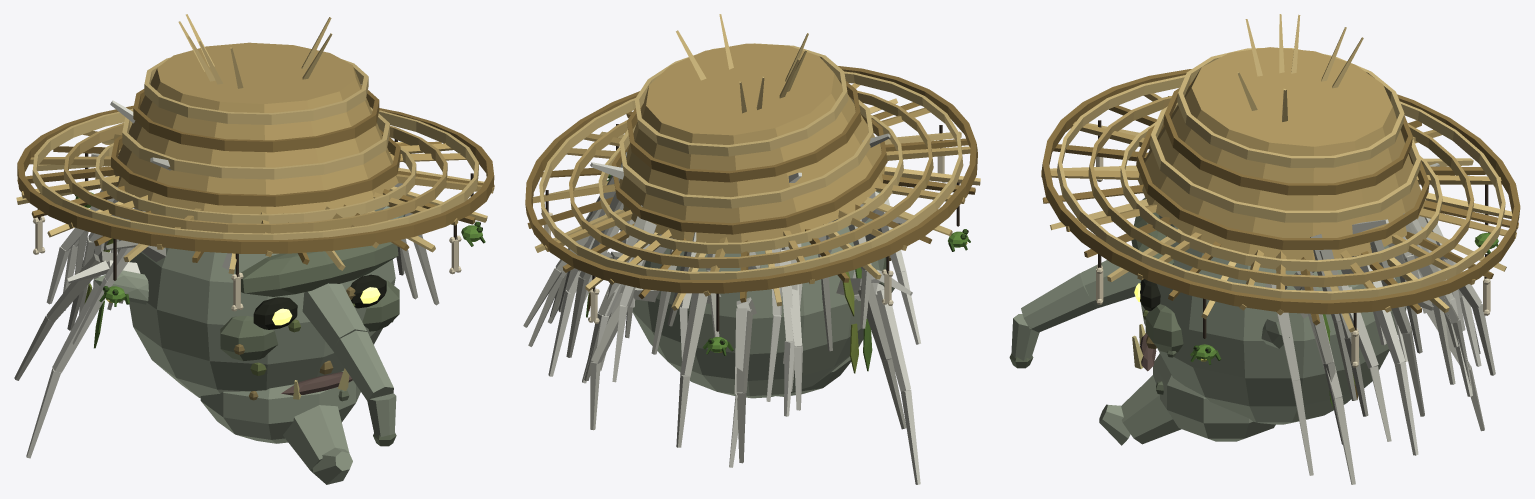
Rendered from granny_mirewhistle_head.glb.
3 views of the same model, side by side, from view 1: azimuth 30°, elevation 25°; view 2: azimuth 150°, elevation 25°; view 3: azimuth 270°, elevation 25° (orthographic). The views are drawn at different scales.
Parts seen in each view (by area): view 1: granny_mirewhistle_head; view 2: granny_mirewhistle_head; view 3: granny_mirewhistle_head.
Part boxes in pixels (left/top/right/bottom): granny_mirewhistle_head: left=14, top=14, right=494, bottom=484; granny_mirewhistle_head: left=523, top=14, right=980, bottom=484; granny_mirewhistle_head: left=1009, top=14, right=1520, bottom=484.
Size of the model in its own units: 1.52 by 1.42 by 1.62.
